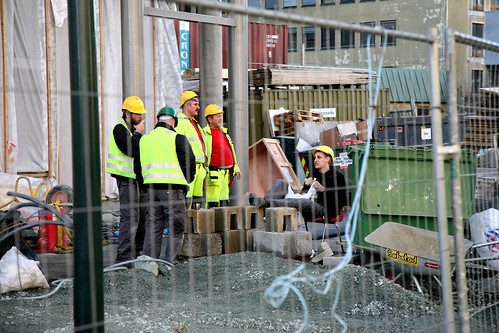person hardhat: (134, 105, 194, 268), (251, 141, 348, 222), (104, 93, 140, 262), (201, 102, 247, 216), (176, 88, 210, 222)
